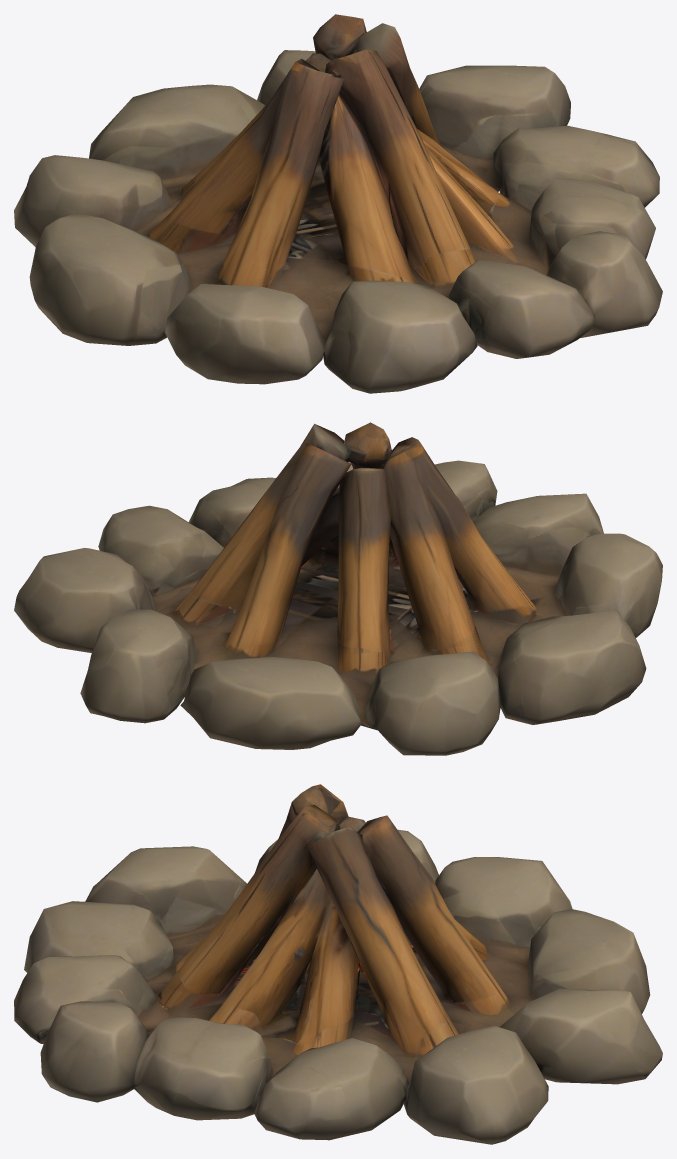
The model's file is fogueira.glb.
3 renders of one model, top to bottom at view 1: azimuth 30°, elevation 25°; view 2: azimuth 150°, elevation 25°; view 3: azimuth 270°, elevation 25°, orthographic. The views are drawn at different scales.
Size of the model in its own units: 1.99 by 0.722 by 1.96.
1 material, 1 textured.
